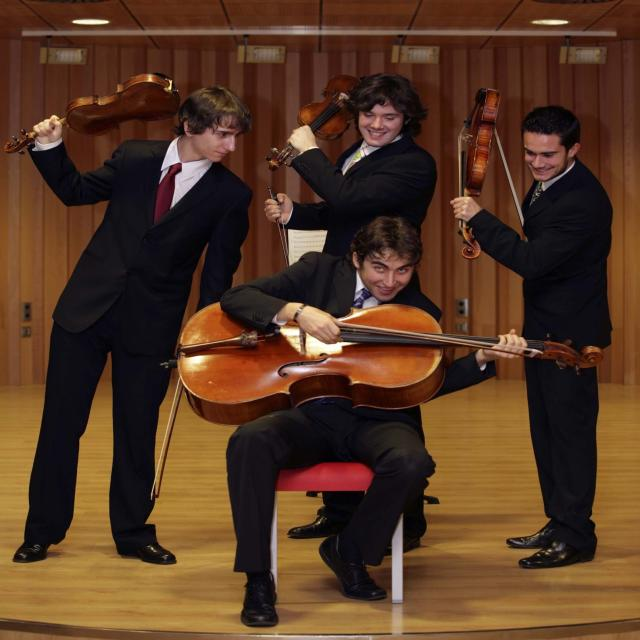cello: (170, 291, 609, 428)
violin: (2, 69, 183, 162), (266, 74, 371, 171), (450, 85, 504, 260)
